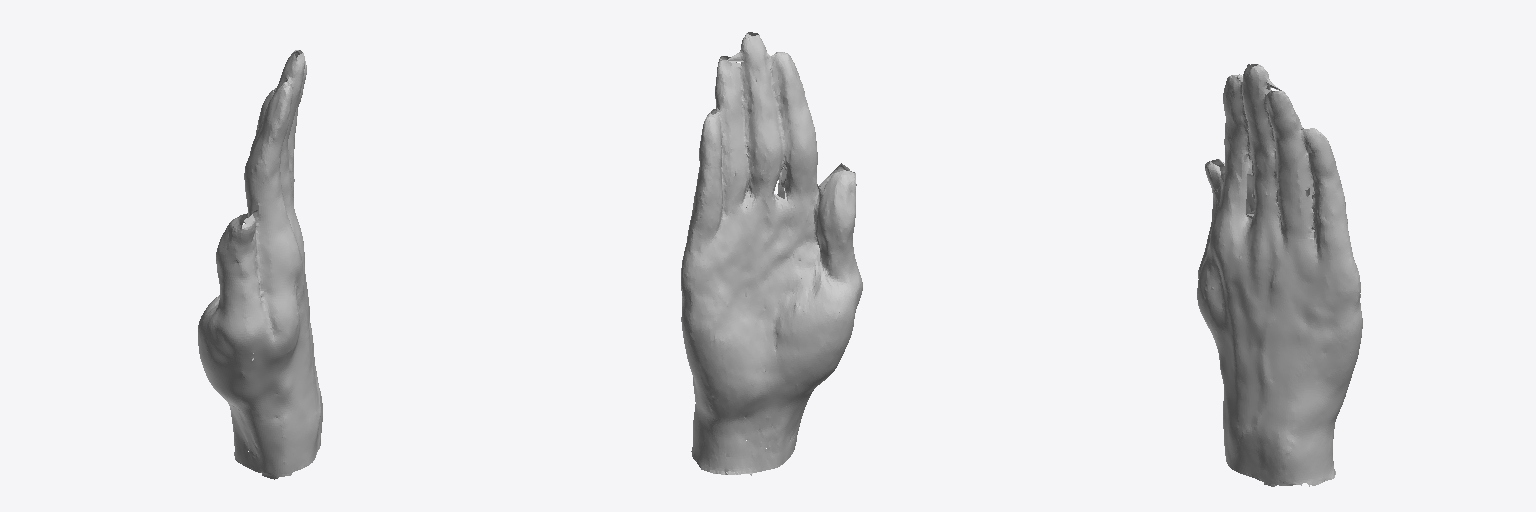
Rendered from h.all.smooth.obj.
The picture shows the model from 3 angles: view 1: azimuth 30°, elevation 25°; view 2: azimuth 150°, elevation 25°; view 3: azimuth 270°, elevation 25°; orthographic projection.
Bounding box in the file's own units: 0.0821 × 0.2388 × 0.0869.